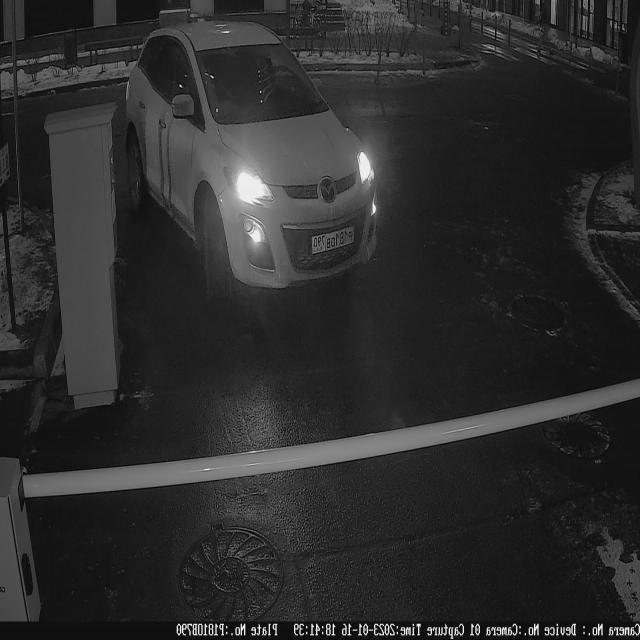car-plate-numbers: (310, 222, 358, 258)
